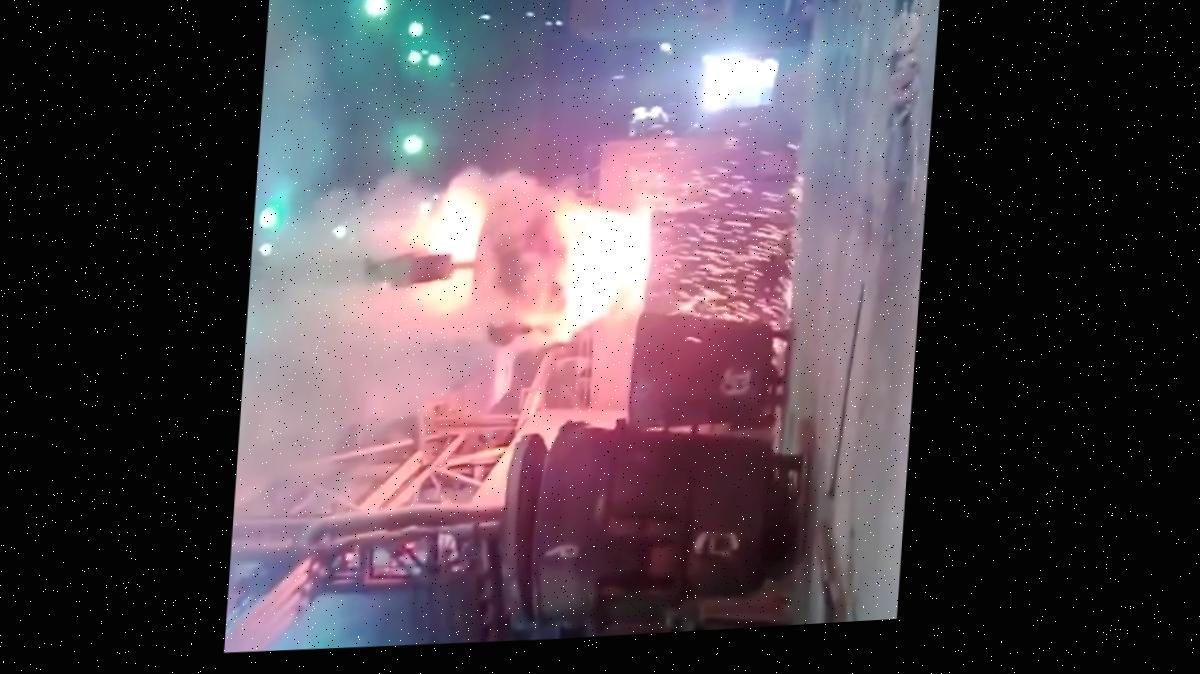fire: (278, 67, 806, 375)
